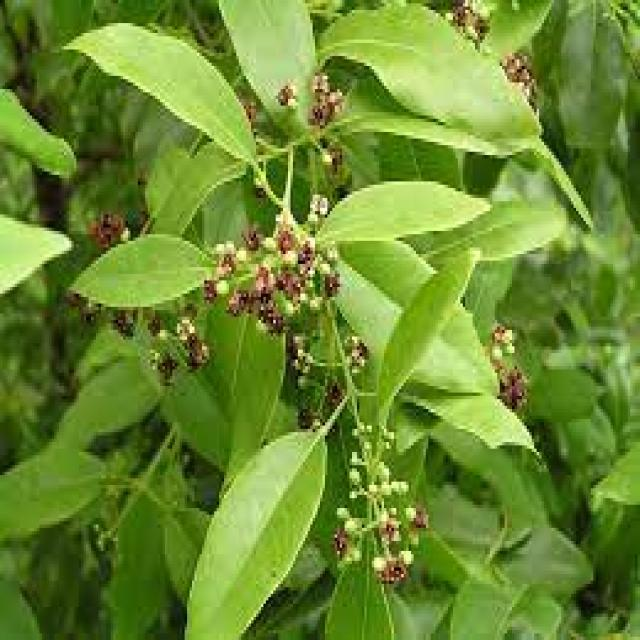Medicinal-Sandalwood: (33, 0, 640, 639)
